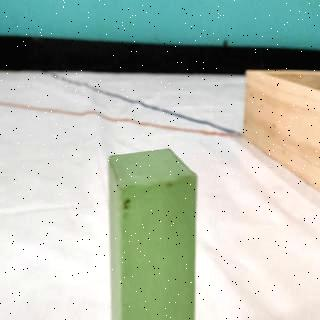greenbox: (106, 146, 198, 320)
